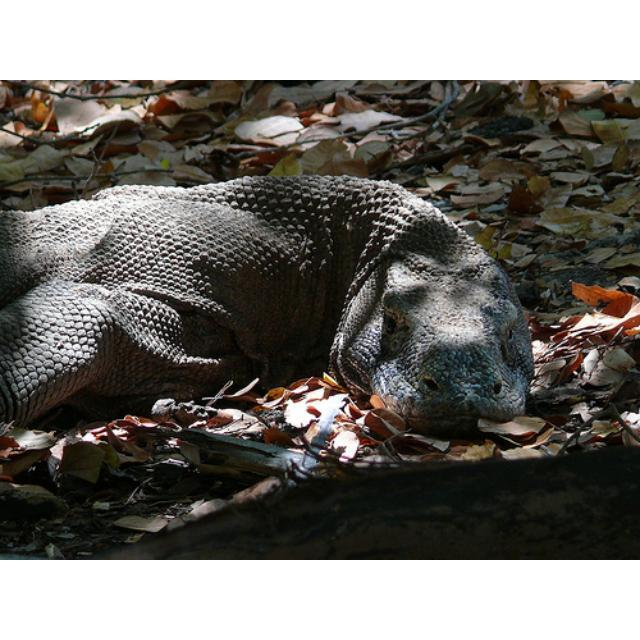KomodoDragon: (1, 174, 534, 432)
